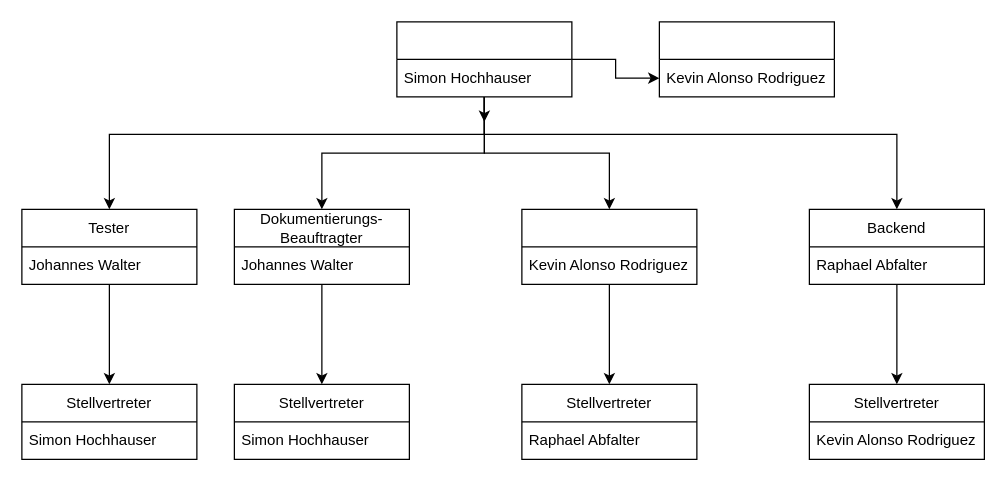
Some shapes in this 1006 by 481 pixel diagram are drawn without their labels. The shapes that lost their labels are listed below. From the top down, each one's box as (x1, y1, x2, y2) in pixels, then its label:
(396, 21, 572, 97): Projektleiter
(658, 21, 834, 97): Stellverteter
(521, 208, 697, 284): Frontend
